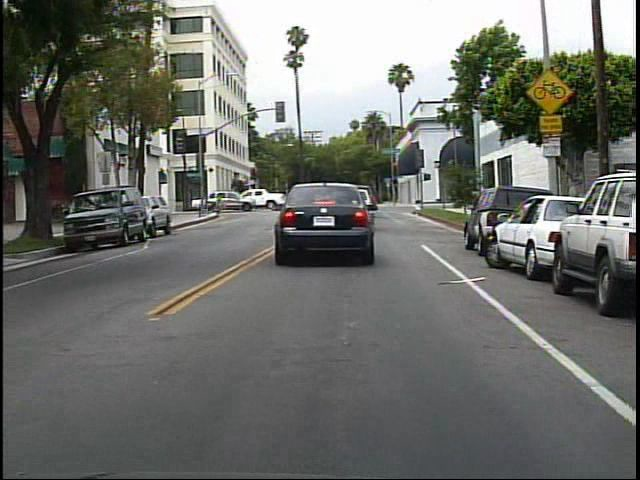person: (211, 188, 230, 218)
